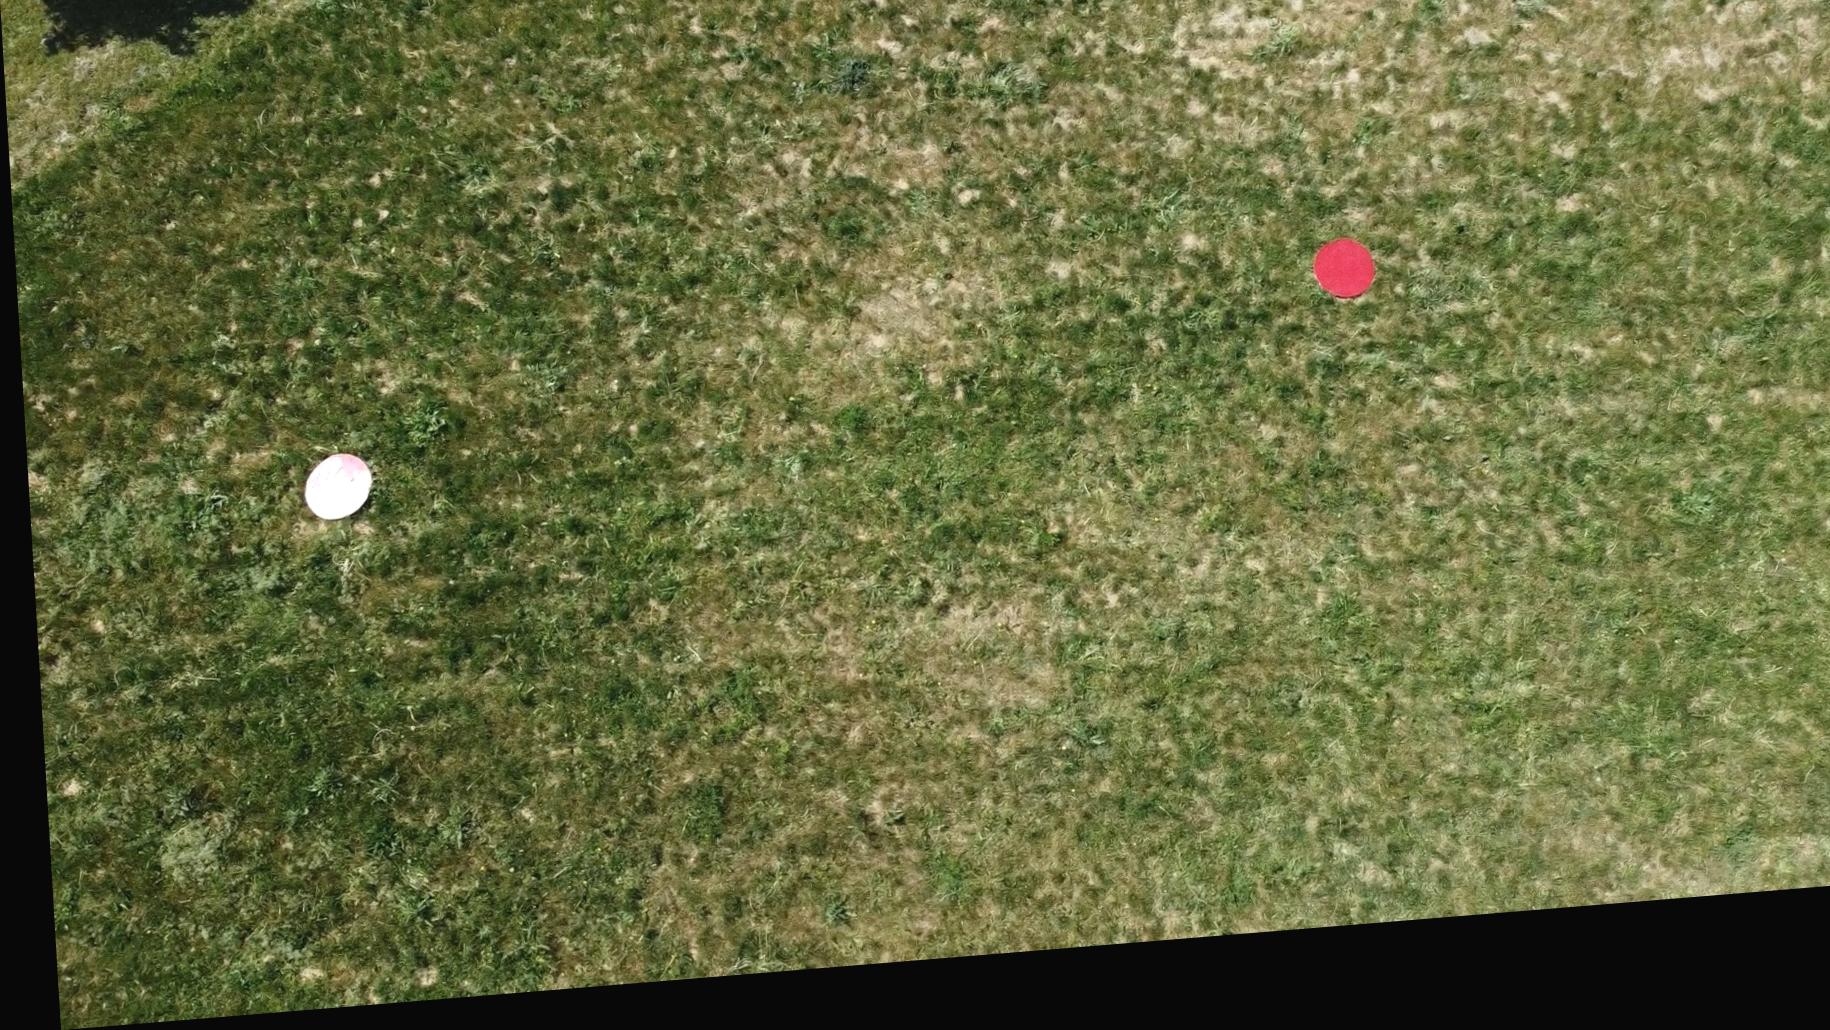Red: (293, 453, 370, 531), (1306, 255, 1375, 326)
